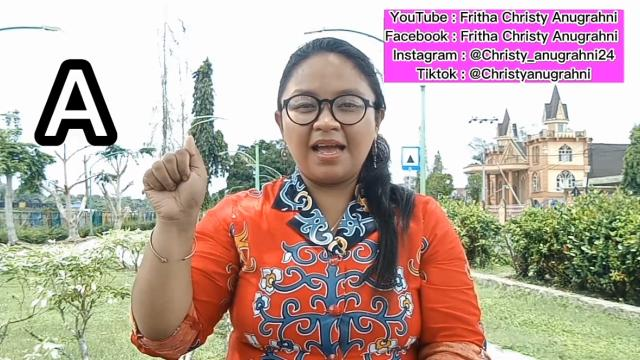A: (142, 135, 212, 231)
